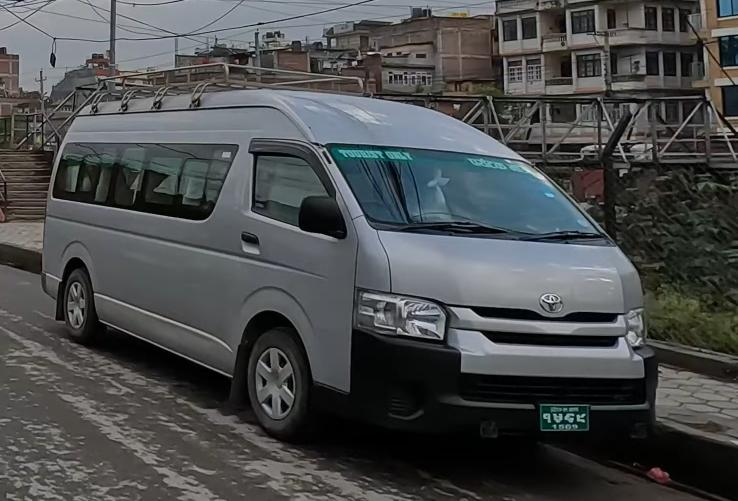micro_bus: (37, 72, 664, 450)
